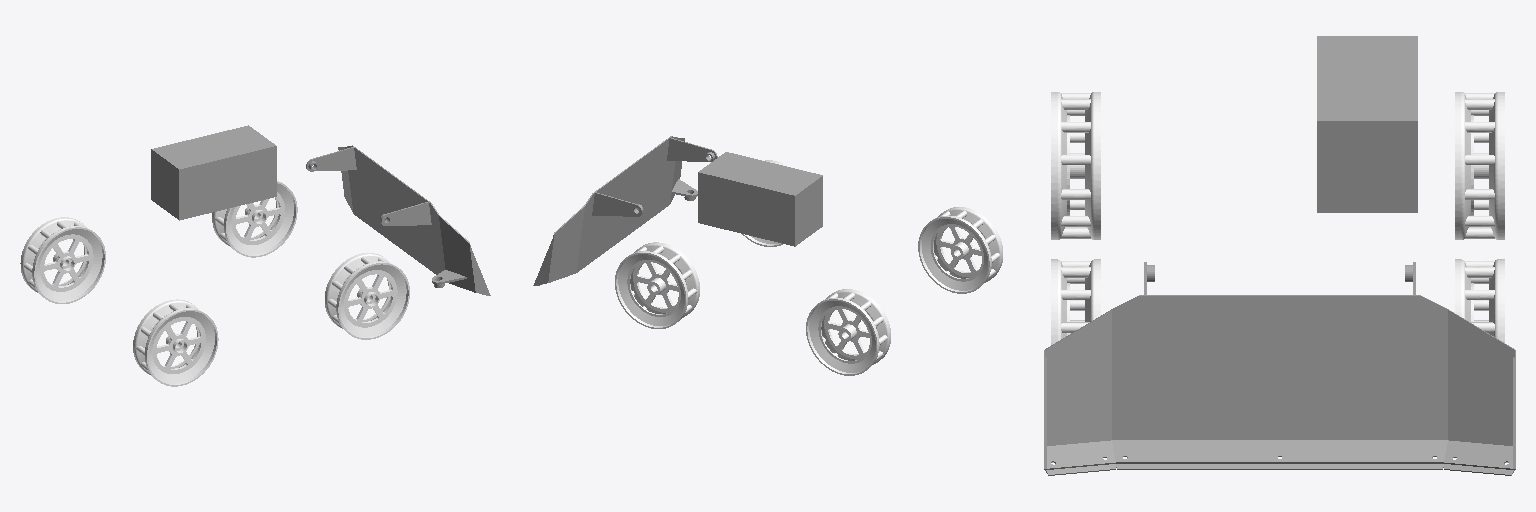
robot.urdf — msd700_blade:
<?xml version="1.0" ?>
<!-- =================================================================================== -->
<!-- |    This document was autogenerated by xacro from msd700_blade_description_2.urdf.xacro | -->
<!-- |    EDITING THIS FILE BY HAND IS NOT RECOMMENDED                                 | -->
<!-- =================================================================================== -->
<robot name="msd700_blade">
  <!-- ================= BASE ================= -->
  <link name="base_footprint"/>
  <!-- Joint -->
  <joint name="base_joint" type="fixed">
    <parent link="base_footprint"/>
    <child link="base_link"/>
    <origin rpy="0 0 0" xyz="0 0 0.05"/>
  </joint>
  <!-- Link -->
  <link name="base_link">
    <visual>
      <origin rpy="0 0 1.5707963267948966" xyz="0 0 0"/>
      <geometry>
        <mesh filename="package://msd700_robot_description/isaac_sim/meshes/base_only.dae" scale="1 1 1"/>
      </geometry>
    </visual>
    <collision>
      <origin rpy="0 0 0" xyz="0 0 0.1"/>
      <geometry>
        <box size="0.866 0.47 0.271"/>
      </geometry>
    </collision>
    <inertial>
      <mass value="121.9"/>
      <origin rpy="0 0 0" xyz="0 0 0.1"/>
      <!-- the inertial matrix approximated as a box -->
      <!-- https://en.wikipedia.org/wiki/List_of_moments_of_inertia -->
      <inertia ixx="2.9900139916666664" ixy="0.0" ixz="0.0" iyy="8.364341191666666" iyz="0.0" izz="9.862278866666665"/>
    </inertial>
  </link>
  <!-- Joint -->
  <joint name="track_left_joint" type="fixed">
    <parent link="base_link"/>
    <child link="track_left_link"/>
    <origin rpy="0 0 0" xyz="-0.285 0.30 0.065"/>
  </joint>
  <!-- Link -->
  <link name="track_left_link">
    <visual>
      <origin rpy="0 0 3.141592653589793" xyz="0 0 0"/>
      <geometry>
        <mesh filename="package://msd700_robot_description/isaac_sim/meshes/left_track.dae" scale="1 1 1"/>
      </geometry>
    </visual>
    <collision>
      <origin rpy="0 0 0" xyz="0 0 0.1"/>
      <geometry>
        <box size="0.866 0.47 0.271"/>
      </geometry>
    </collision>
    <inertial>
      <mass value="121.9"/>
      <origin rpy="0 0 0" xyz="0 0 0.1"/>
      <!-- the inertial matrix approximated as a box -->
      <!-- https://en.wikipedia.org/wiki/List_of_moments_of_inertia -->
      <inertia ixx="2.9900139916666664" ixy="0.0" ixz="0.0" iyy="8.364341191666666" iyz="0.0" izz="9.862278866666665"/>
    </inertial>
  </link>
  <!-- Joint -->
  <joint name="track_right_joint" type="fixed">
    <parent link="base_link"/>
    <child link="track_right_link"/>
    <origin rpy="0 0 0" xyz="-0.285 -0.30 0.065"/>
  </joint>
  <!-- Link -->
  <link name="track_right_link">
    <visual>
      <origin rpy="0 0 3.141592653589793" xyz="0 0 0"/>
      <geometry>
        <mesh filename="package://msd700_robot_description/isaac_sim/meshes/left_track.dae" scale="1 1 1"/>
      </geometry>
    </visual>
    <collision>
      <origin rpy="0 0 0" xyz="0 0 0.1"/>
      <geometry>
        <box size="0.866 0.47 0.271"/>
      </geometry>
    </collision>
    <inertial>
      <mass value="121.9"/>
      <origin rpy="0 0 0" xyz="0 0 0.1"/>
      <!-- the inertial matrix approximated as a box -->
      <!-- https://en.wikipedia.org/wiki/List_of_moments_of_inertia -->
      <inertia ixx="2.9900139916666664" ixy="0.0" ixz="0.0" iyy="8.364341191666666" iyz="0.0" izz="9.862278866666665"/>
    </inertial>
  </link>
  <!-- Joint -->
  <joint name="wheel_fl_joint" type="continuous">
    <parent link="base_link"/>
    <child link="wheel_fl_link"/>
    <origin rpy="0 0 0" xyz="0.305 0.30 0.065"/>
    <axis xyz="0 1 0"/>
  </joint>
  <!-- Link -->
  <link name="wheel_fl_link">
    <visual>
      <origin rpy="0 0 1.5707963267948966" xyz="0.11050000000000001 -0.04 -0.11050000000000001"/>
      <geometry>
        <mesh filename="package://msd700_robot_description/isaac_sim/meshes/wheel.stl" scale="0.001 0.001 0.001"/>
      </geometry>
      <material name="White">
        <color rgba="1 1 1 1.0"/>
      </material>
    </visual>
    <collision>
      <origin rpy="1.5707963267948966 1.5707963267948966 0" xyz="0 0 0"/>
      <geometry>
        <cylinder length="0.1" radius="0.1355"/>
      </geometry>
    </collision>
    <inertial>
      <origin rpy="1.5707963267948966 0 0" xyz="0 0 0"/>
      <mass value="2"/>
      <inertia ixx="0.010846791666666668" ixy="0" ixz="0" iyy="0.010846791666666668" iyz="0" izz="0.01836025"/>
    </inertial>
  </link>
  <!-- Joint -->
  <joint name="wheel_fr_joint" type="continuous">
    <parent link="base_link"/>
    <child link="wheel_fr_link"/>
    <origin rpy="0 0 0" xyz="0.305 -0.30 0.065"/>
    <axis xyz="0 1 0"/>
  </joint>
  <!-- Link -->
  <link name="wheel_fr_link">
    <visual>
      <origin rpy="0 0 1.5707963267948966" xyz="0.11050000000000001 -0.04 -0.11050000000000001"/>
      <geometry>
        <mesh filename="package://msd700_robot_description/isaac_sim/meshes/wheel.stl" scale="0.001 0.001 0.001"/>
      </geometry>
      <material name="White">
        <color rgba="1 1 1 1.0"/>
      </material>
    </visual>
    <collision>
      <origin rpy="1.5707963267948966 1.5707963267948966 0" xyz="0 0 0"/>
      <geometry>
        <cylinder length="0.1" radius="0.1355"/>
      </geometry>
    </collision>
    <inertial>
      <origin rpy="1.5707963267948966 0 0" xyz="0 0 0"/>
      <mass value="2"/>
      <inertia ixx="0.010846791666666668" ixy="0" ixz="0" iyy="0.010846791666666668" iyz="0" izz="0.01836025"/>
    </inertial>
  </link>
  <!-- Joint -->
  <joint name="wheel_rl_joint" type="continuous">
    <parent link="base_link"/>
    <child link="wheel_rl_link"/>
    <origin rpy="0 0 0" xyz="-0.285 0.30 0.065"/>
    <axis xyz="0 1 0"/>
    <mimic joint="wheel_fl_joint" multiplier="1.0" offset="0.0"/>
  </joint>
  <!-- Link -->
  <link name="wheel_rl_link">
    <visual>
      <origin rpy="0 0 1.5707963267948966" xyz="0.11050000000000001 -0.04 -0.11050000000000001"/>
      <geometry>
        <mesh filename="package://msd700_robot_description/isaac_sim/meshes/wheel.stl" scale="0.001 0.001 0.001"/>
      </geometry>
      <material name="White">
        <color rgba="1 1 1 1.0"/>
      </material>
    </visual>
    <collision>
      <origin rpy="1.5707963267948966 1.5707963267948966 0" xyz="0 0 0"/>
      <geometry>
        <cylinder length="0.1" radius="0.1355"/>
      </geometry>
    </collision>
    <inertial>
      <origin rpy="1.5707963267948966 0 0" xyz="0 0 0"/>
      <mass value="2"/>
      <inertia ixx="0.010846791666666668" ixy="0" ixz="0" iyy="0.010846791666666668" iyz="0" izz="0.01836025"/>
    </inertial>
  </link>
  <!-- Joint -->
  <joint name="wheel_rr_joint" type="continuous">
    <parent link="base_link"/>
    <child link="wheel_rr_link"/>
    <origin rpy="0 0 0" xyz="-0.285 -0.30 0.065"/>
    <axis xyz="0 1 0"/>
    <mimic joint="wheel_fr_joint" multiplier="1.0" offset="0.0"/>
  </joint>
  <!-- Link -->
  <link name="wheel_rr_link">
    <visual>
      <origin rpy="0 0 1.5707963267948966" xyz="0.11050000000000001 -0.04 -0.11050000000000001"/>
      <geometry>
        <mesh filename="package://msd700_robot_description/isaac_sim/meshes/wheel.stl" scale="0.001 0.001 0.001"/>
      </geometry>
      <material name="White">
        <color rgba="1 1 1 1.0"/>
      </material>
    </visual>
    <collision>
      <origin rpy="1.5707963267948966 1.5707963267948966 0" xyz="0 0 0"/>
      <geometry>
        <cylinder length="0.1" radius="0.1355"/>
      </geometry>
    </collision>
    <inertial>
      <origin rpy="1.5707963267948966 0 0" xyz="0 0 0"/>
      <mass value="2"/>
      <inertia ixx="0.010846791666666668" ixy="0" ixz="0" iyy="0.010846791666666668" iyz="0" izz="0.01836025"/>
    </inertial>
  </link>
  <joint name="blade_base_joint" type="fixed">
    <parent link="base_link"/>
    <child link="blade_base_link"/>
    <origin rpy="0 0 0" xyz="0.1 0 0.23"/>
  </joint>
  <link name="blade_base_link">
    <visual>
      <origin rpy="1.5707963267948966 0 1.5707963267948966" xyz="0 0 0"/>
      <geometry>
        <mesh filename="package://msd700_robot_description/isaac_sim/meshes/blade_base.dae" scale="1 1 1"/>
      </geometry>
      <material name="Gray">
        <color rgba="0.7 0.7 0.7 1.0"/>
      </material>
    </visual>
    <collision>
      <origin rpy="0 0 0" xyz="0 0 0"/>
      <geometry>
        <box size="0.566 0.47 0.01"/>
      </geometry>
    </collision>
    <inertial>
      <origin rpy="0 0 0" xyz="0 0 0"/>
      <mass value="8"/>
      <inertia ixx="0.14733333333333332" ixy="0.0" ixz="0.0" iyy="0.21363733333333326" iyz="0.0" izz="0.3608373333333333"/>
    </inertial>
  </link>
  <joint name="blade_joint" type="revolute">
    <parent link="blade_base_link"/>
    <child link="blade_link"/>
    <origin rpy="0 0 0" xyz="0.32 0 0"/>
    <axis xyz="0 1 0"/>
    <limit effort="0.0" lower="0.0" upper="-0.5" velocity="0.0"/>
  </joint>
  <link name="blade_link">
    <visual>
      <origin rpy="1.5707963267948966 0 1.5707963267948966" xyz="-0.315 0 0"/>
      <geometry>
        <mesh filename="package://msd700_robot_description/isaac_sim/meshes/blade.dae" scale="1 1 1"/>
      </geometry>
      <material name="Gray">
        <color rgba="0.7 0.7 0.7 1.0"/>
      </material>
    </visual>
    <collision>
      <origin rpy="1.5707963267948966 0 1.5707963267948966" xyz="-0.315 0 0"/>
      <geometry>
        <mesh filename="package://msd700_robot_description/isaac_sim/meshes/blade.dae" scale="1 1 1"/>
      </geometry>
    </collision>
    <inertial>
      <origin rpy="0 0 0" xyz="0.2 0 -0.12"/>
      <mass value="5"/>
      <inertia ixx="0.23126041666666663" ixy="0.0" ixz="0.0" iyy="0.028593750000000005" iyz="0.0" izz="0.20566666666666664"/>
    </inertial>
  </link>
  <!-- ================= SENSOR ================= -->
  <joint name="sensor_box_joint" type="fixed">
    <parent link="base_link"/>
    <child link="sensor_box_link"/>
    <origin rpy="0 0 0" xyz="0.08300000000000002 0.13 0.23"/>
  </joint>
  <link name="sensor_box_link">
    <visual>
      <origin rpy="0 0 0" xyz="0 0 0.075"/>
      <geometry>
        <box size="0.3 0.15 0.15"/>
      </geometry>
      <material name="Gray">
        <color rgba="0.7 0.7 0.7 1.0"/>
      </material>
    </visual>
    <collision>
      <origin rpy="0 0 0" xyz="0.08300000000000002 0.13 0.075"/>
      <geometry>
        <box size="0.3 0.15 0.15"/>
      </geometry>
      <material name="Gray">
        <color rgba="0.7 0.7 0.7 1.0"/>
      </material>
    </collision>
    <inertial>
      <origin rpy="0 0 0" xyz="0 0 0.075"/>
      <mass value="0.85"/>
      <inertia ixx="0.0031875" ixy="0.0" ixz="0.0" iyy="0.007968749999999998" iyz="0.0" izz="0.007968749999999998"/>
    </inertial>
  </link>
  <!-- Joint -->
  <joint name="livox_joint" type="fixed">
    <parent link="sensor_box_link"/>
    <child link="livox_link"/>
    <origin rpy="0 0 0" xyz="-0.1175 -0.042499999999999996 0.18"/>
  </joint>
  <!-- Link -->
  <link name="livox_link">
    <visual>
      <origin rpy="0 0 -1.5707963267948966" xyz="0 0 0"/>
      <geometry>
        <mesh filename="package://msd700_robot_description/isaac_sim/meshes/livox_360.dae" scale="1 1 1"/>
      </geometry>
    </visual>
    <collision>
      <origin rpy="0 0 0" xyz="0 0 0"/>
      <geometry>
        <box size="0.065 0.065 0.06"/>
      </geometry>
    </collision>
    <inertial>
      <mass value="0.265"/>
      <origin rpy="0 0 0" xyz="0 0 0"/>
      <!-- the inertial matrix approximated as a box -->
      <!-- https://en.wikipedia.org/wiki/List_of_moments_of_inertia -->
      <inertia ixx="0.00017280208333333335" ixy="0.0" ixz="0.0" iyy="0.00017280208333333335" iyz="0.0" izz="0.00018660416666666668"/>
    </inertial>
  </link>
</robot>

--- Facts derived from the render (not from the file) ---
Views: 3 orthographic renders of the robot side by side, from view 1: azimuth 30°, elevation 25°; view 2: azimuth 150°, elevation 25°; view 3: azimuth 270°, elevation 25°.
Robot: msd700_blade — 12 links, 11 joints (1 revolute, 4 continuous, 6 fixed); root link base_footprint; default pose: all joints at 0.
Visible links, largest first — view 1: blade_link, sensor_box_link, wheel_rl_link, wheel_fr_link, wheel_rr_link, wheel_fl_link; view 2: blade_link, sensor_box_link, wheel_fl_link, wheel_rr_link, wheel_rl_link; view 3: blade_link, sensor_box_link, wheel_rl_link, wheel_rr_link, wheel_fr_link, wheel_fl_link.
Link boxes in pixels (box(x1,y1,x2,y2)): blade_link: box(306, 145, 490, 295); sensor_box_link: box(151, 125, 276, 220); wheel_rl_link: box(20, 217, 105, 303); wheel_fr_link: box(325, 253, 409, 339); wheel_rr_link: box(133, 299, 218, 386); wheel_fl_link: box(212, 180, 297, 257); blade_link: box(533, 136, 717, 285); sensor_box_link: box(698, 152, 822, 246); wheel_fl_link: box(615, 242, 699, 328); wheel_rr_link: box(918, 207, 1002, 293); wheel_rl_link: box(806, 289, 890, 375); blade_link: box(1044, 262, 1515, 475); sensor_box_link: box(1317, 36, 1417, 212); wheel_rl_link: box(1455, 92, 1504, 239); wheel_rr_link: box(1051, 92, 1100, 239); wheel_fr_link: box(1051, 259, 1100, 344); wheel_fl_link: box(1455, 259, 1504, 342).
Bounding box of the posed robot: 1.06 × 0.7 × 0.4255 m (x, y, z).
5 mesh visuals loaded from 6 distinct referenced files (1 binary STL, 1 Collada DAE); not drawn: 5 (reference not matched to a file when rendering).